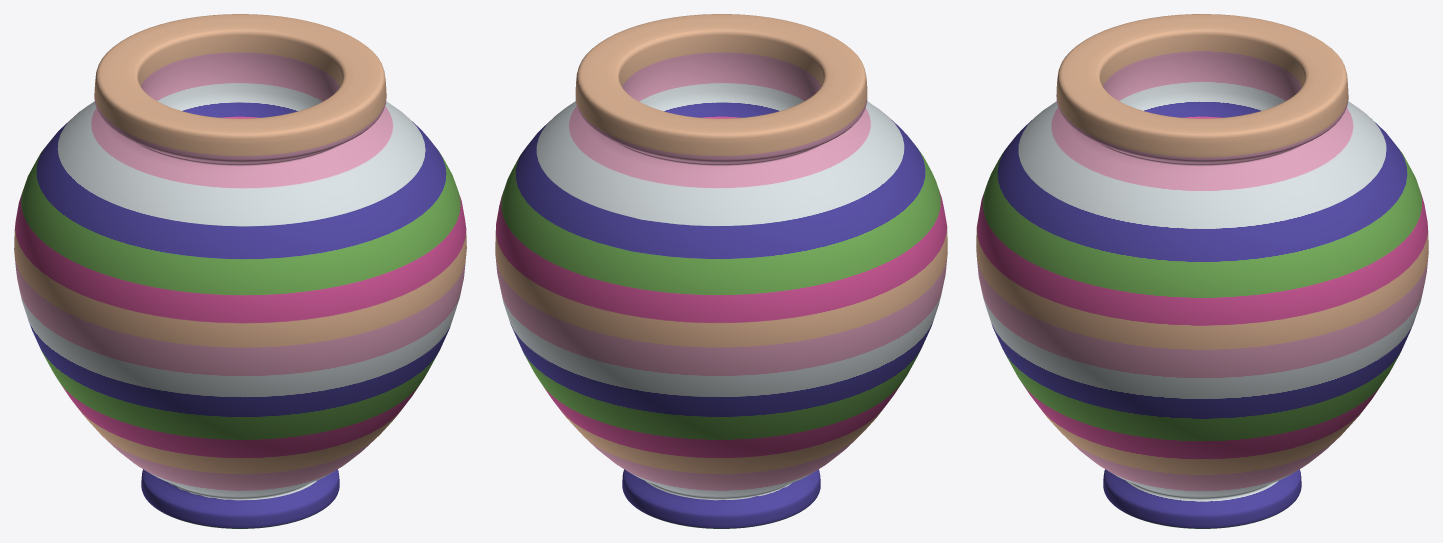
File: B-10_Onstick.fbx
The picture shows the model from 3 angles, left to right: view 1: azimuth 30°, elevation 25°; view 2: azimuth 150°, elevation 25°; view 3: azimuth 270°, elevation 25°; orthographic projection.
Visible parts, largest first — view 1: B-10; view 2: B-10; view 3: B-10.
Part boxes in pixels (box(x1,y1,x2,y2)): B-10: box(14, 14, 466, 528); B-10: box(495, 14, 947, 528); B-10: box(976, 14, 1428, 528).
Size of the model in its own units: 1.1 by 1.11 by 1.1.
1 material, 1 textured.
